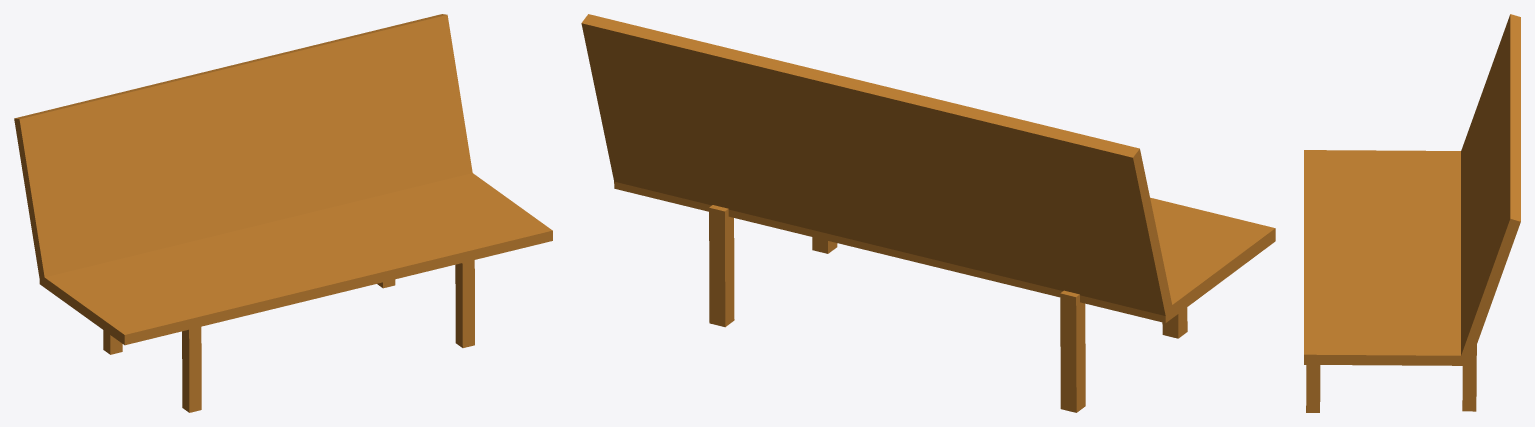
File: bench.dae
3 renders of one model, left to right at view 1: azimuth 30°, elevation 25°; view 2: azimuth 150°, elevation 25°; view 3: azimuth 270°, elevation 25°, orthographic. The views are drawn at different scales.
Visible parts, largest first — view 1: Cube.004, Cube.005, Cube.003, Cube.001; view 2: Cube.004, Cube.005, Cube.002, Cube; view 3: Cube.005, Cube.004, Cube, Cube.003.
Boxes of the visible parts, x1,y1,x2,y2 form: Cube.004: (14, 14, 472, 281); Cube.005: (39, 173, 552, 345); Cube.003: (455, 260, 474, 347); Cube.001: (182, 327, 201, 412); Cube.004: (581, 14, 1172, 321); Cube.005: (614, 181, 1275, 323); Cube.002: (1060, 290, 1085, 412); Cube: (709, 205, 734, 327); Cube.005: (1304, 150, 1470, 365); Cube.004: (1459, 14, 1520, 365); Cube: (1462, 345, 1476, 411); Cube.003: (1306, 365, 1320, 412).
Size of the model in its own units: 6.96 by 3.12 by 3.66.
